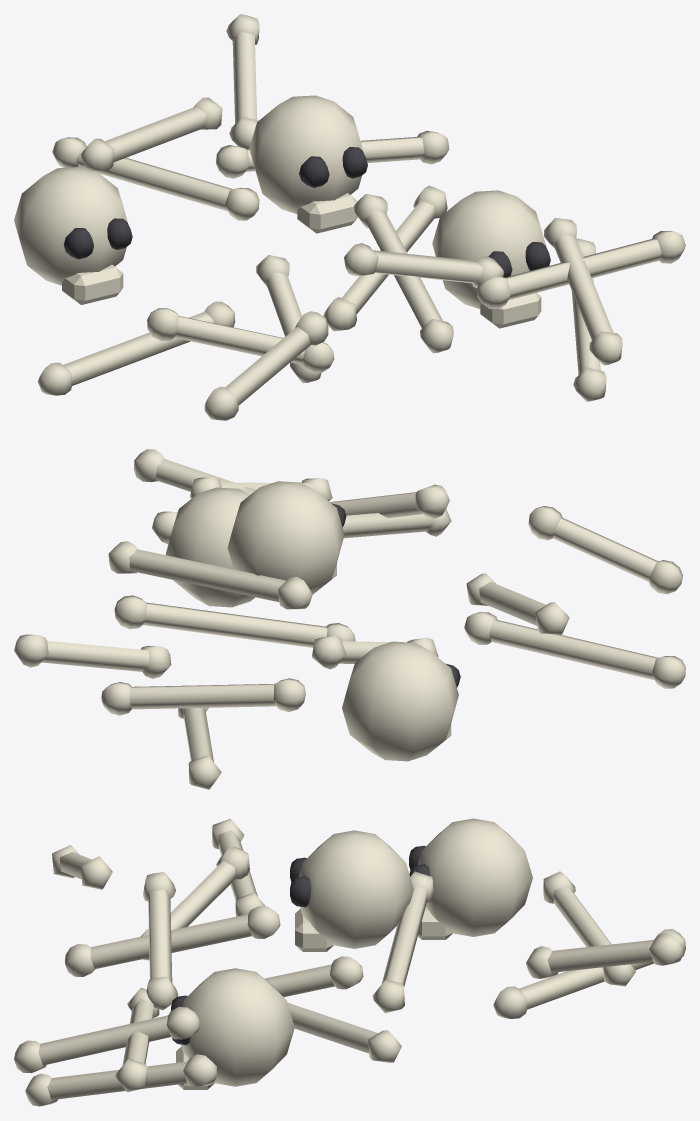
File: cr_bones.glb
3 views of the same model, one above another, from view 1: azimuth 30°, elevation 25°; view 2: azimuth 150°, elevation 25°; view 3: azimuth 270°, elevation 25° (orthographic).
Visible parts, largest first — view 1: cr_bones; view 2: cr_bones; view 3: cr_bones.
Part boxes in pixels (x1,y1,x2,y2): cr_bones: [14, 14, 685, 420]; cr_bones: [14, 449, 685, 789]; cr_bones: [14, 818, 685, 1106].
Size of the model in its own units: 1.7 by 0.587 by 1.69.
